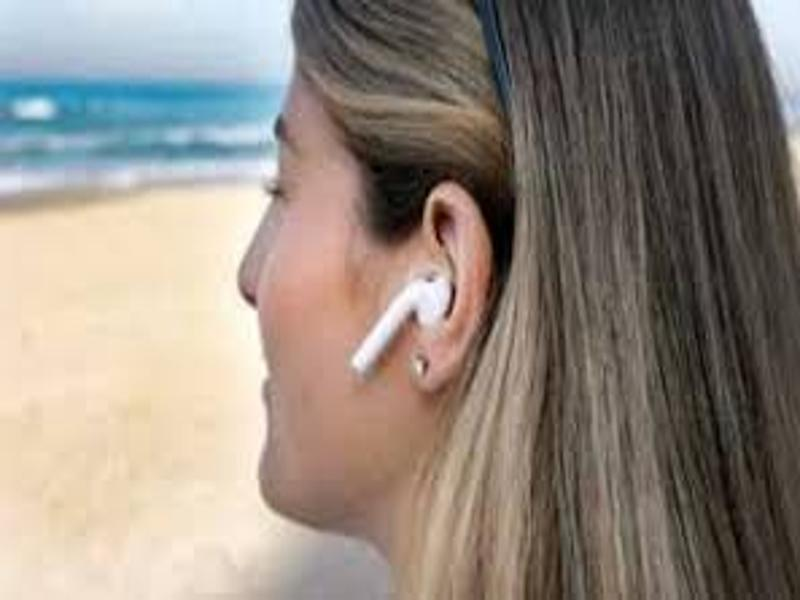headphone: (349, 271, 453, 375)
